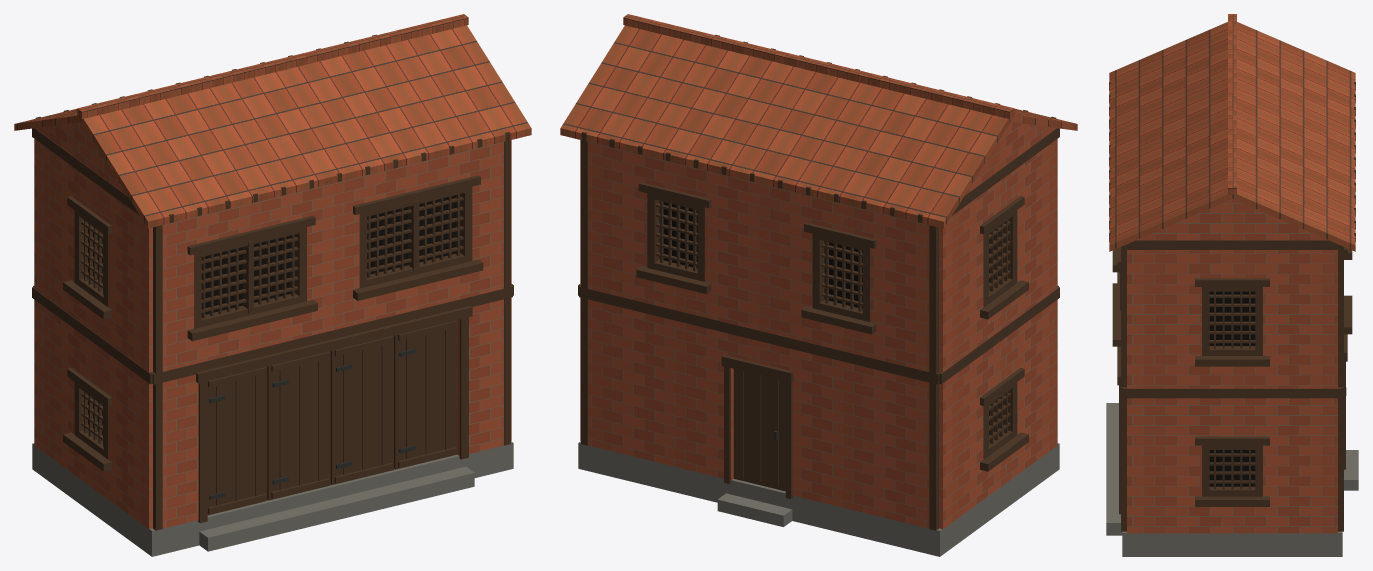
File: building02_shopfront.glb
3 views of the same model, side by side, from view 1: azimuth 30°, elevation 25°; view 2: azimuth 150°, elevation 25°; view 3: azimuth 270°, elevation 25° (orthographic). The views are drawn at different scales.
Parts seen in each view (by area): view 1: Tiled_Roof_And_Ridge, Wall_Front, Wall_Left, Stone_Plinth_And_Step, Plain_Timber_Bands_And_Corners, Window_Front_02, Window_Front_01, Shutter_Panel_04, Shutter_Panel_02, Shutter_Panel_03, Shutter_Panel_01, Shop_Opening_Frame (+3 smaller); view 2: Wall_Back, Tiled_Roof_And_Ridge, Wall_Left, Stone_Plinth_And_Step, Plain_Timber_Bands_And_Corners, Closed_Service_Door, Window_Back_02, Window_Back_01, Window_Left_02, Window_Left_01, Gable_Left; view 3: Wall_Right, Tiled_Roof_And_Ridge, Plain_Timber_Bands_And_Corners, Stone_Plinth_And_Step, Window_Right_02, Window_Right_01, Gable_Right, Window_Front_02, Shop_Opening_Frame, Window_Back_01, Closed_Service_Door.
Boxes of the visible parts, x1,y1,x2,y2 form: Tiled_Roof_And_Ridge: (14,14,531,228); Wall_Front: (162,142,503,528); Wall_Left: (34,139,152,529); Stone_Plinth_And_Step: (32,441,513,556); Plain_Timber_Bands_And_Corners: (32,34,513,530); Window_Front_02: (353,175,483,300); Window_Front_01: (187,215,317,341); Shutter_Panel_04: (394,320,457,469); Shutter_Panel_02: (267,351,330,500); Shutter_Panel_03: (330,335,393,484); Shutter_Panel_01: (207,366,267,515); Shop_Opening_Frame: (196,306,472,523); Wall_Back: (588,142,929,528); Tiled_Roof_And_Ridge: (560,14,1077,228); Wall_Left: (939,139,1057,529); Stone_Plinth_And_Step: (578,441,1059,556); Plain_Timber_Bands_And_Corners: (578,34,1059,530); Closed_Service_Door: (721,355,793,499); Window_Back_02: (801,222,876,334); Window_Back_01: (636,182,711,294); Window_Left_02: (980,196,1028,319); Window_Left_01: (980,368,1028,471); Gable_Left: (965,122,1056,194); Wall_Right: (1127,250,1337,533); Tiled_Roof_And_Ridge: (1109,14,1355,251); Plain_Timber_Bands_And_Corners: (1109,82,1355,531); Stone_Plinth_And_Step: (1106,403,1358,556); Window_Right_02: (1195,278,1269,366); Window_Right_01: (1195,436,1269,506); Gable_Right: (1137,199,1327,240); Window_Front_02: (1112,247,1120,346); Shop_Opening_Frame: (1117,272,1120,514); Window_Back_01: (1344,247,1352,334); Closed_Service_Door: (1344,334,1347,469).
Size of the model in its own units: 7.02 by 7.05 by 4.3.
Materials: 6 (2 with a texture image).
